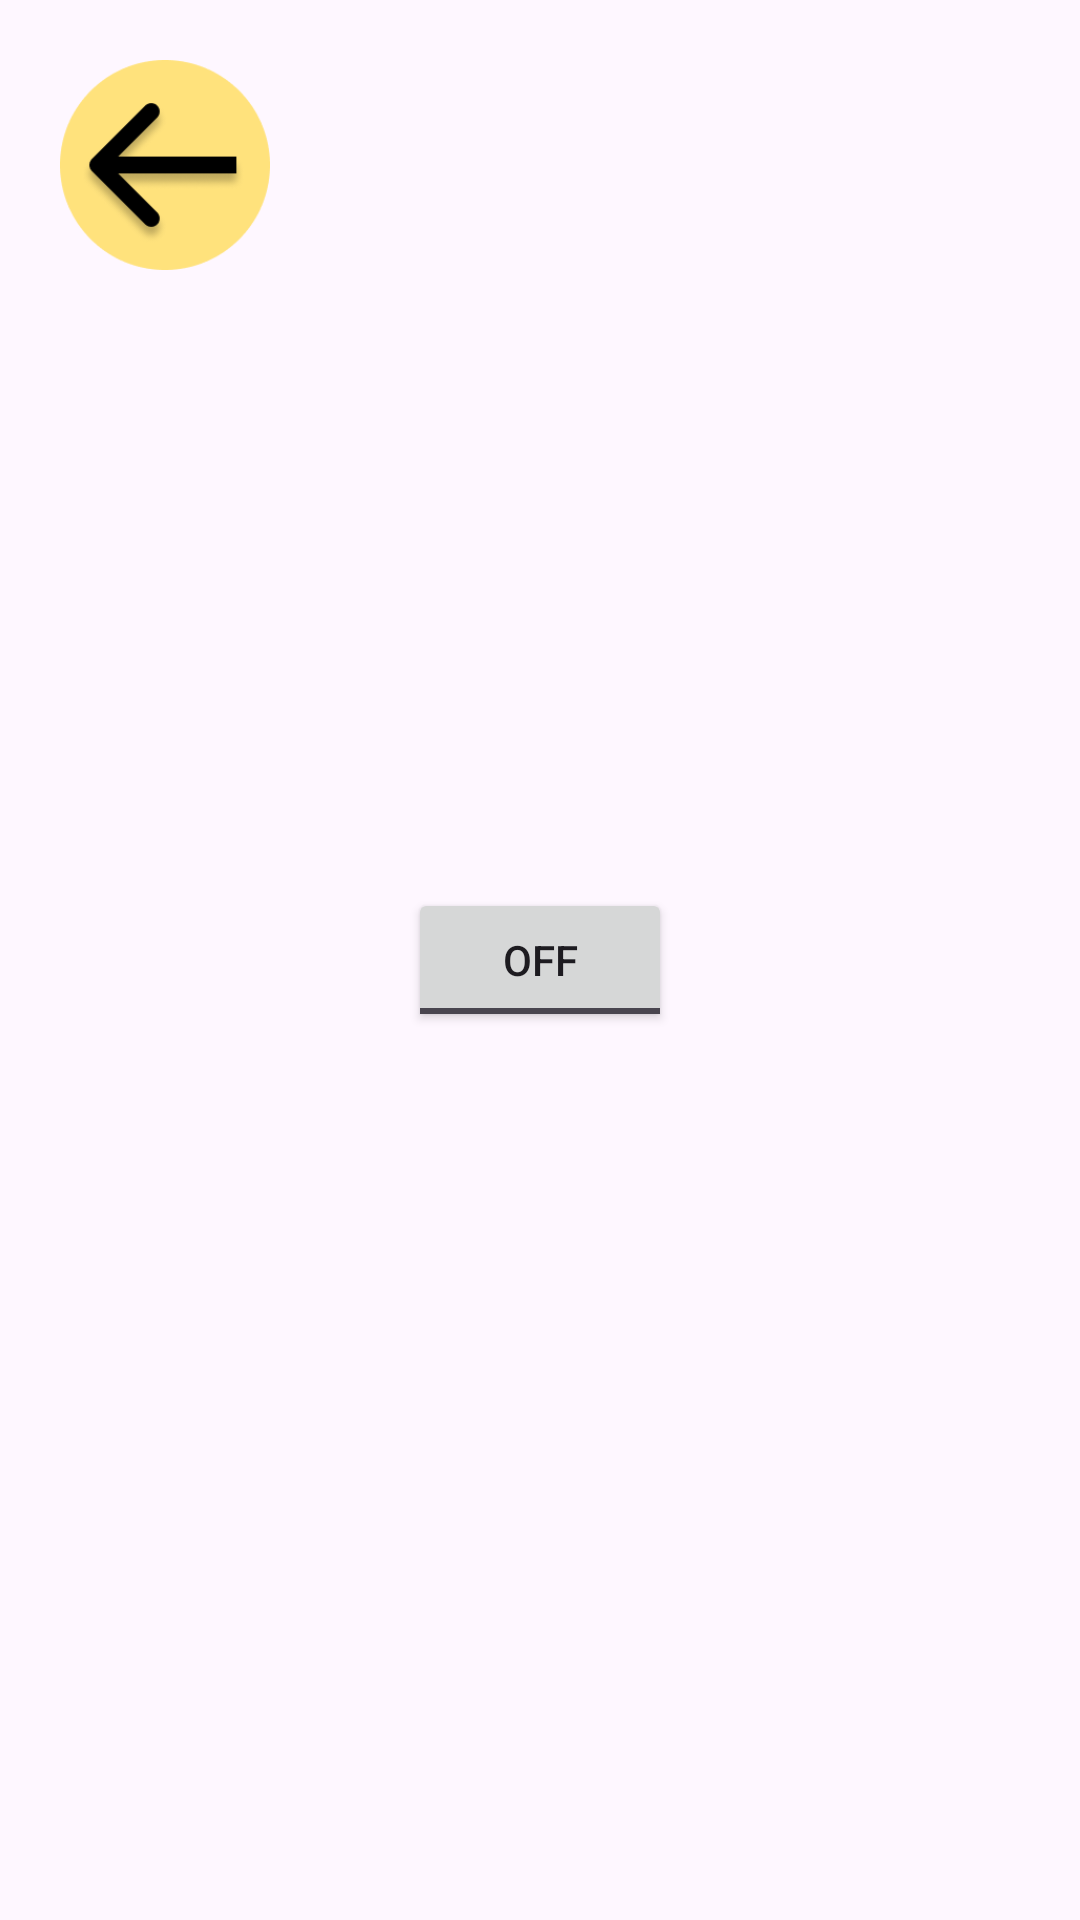

Where icons sit on this 1080px x 1920px app screen, as {"x1": x1, "y1": y1, "x2": x2, "y2": y2}:
backbutton mini: {"x1": 60, "y1": 60, "x2": 270, "y2": 270}
